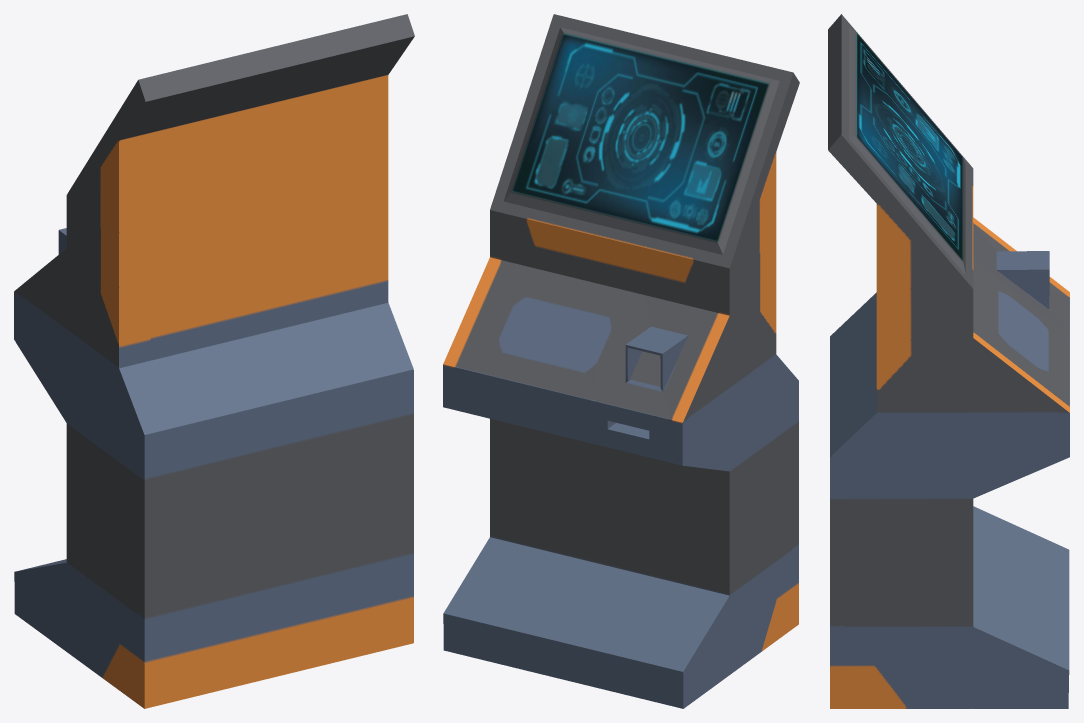
Rendered from chip shop .fbx.
3 renders of one model, left to right at view 1: azimuth 30°, elevation 25°; view 2: azimuth 150°, elevation 25°; view 3: azimuth 270°, elevation 25°, orthographic. The views are drawn at different scales.
Visible parts, largest first — view 1: Cube; view 2: Cube; view 3: Cube.
Boxes of the visible parts, x1,y1,x2,y2 form: Cube: (14,14,414,708); Cube: (443,14,799,708); Cube: (828,14,1069,708).
Size of the model in its own units: 60.92 by 135 by 51.56.
